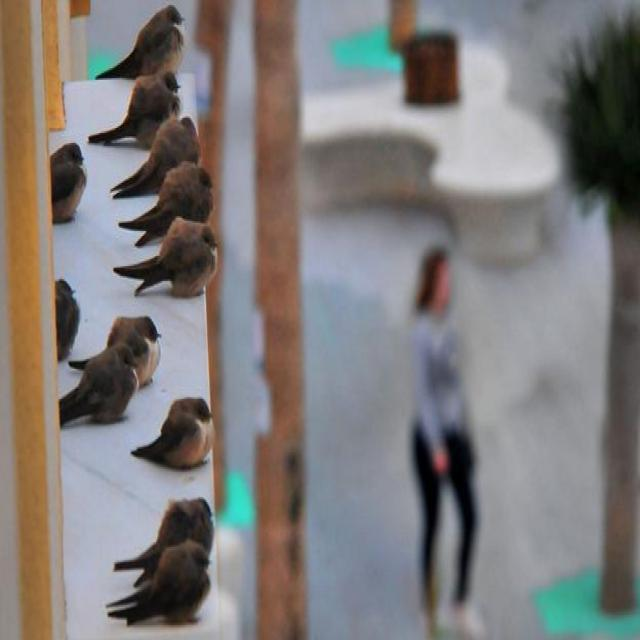bird: (105, 482, 268, 572), (120, 198, 256, 296), (105, 316, 198, 434), (131, 393, 226, 493), (112, 548, 223, 630), (62, 354, 156, 447), (36, 102, 98, 242), (128, 103, 208, 200), (98, 64, 178, 147), (114, 3, 190, 83), (115, 169, 220, 222), (51, 274, 85, 364)
